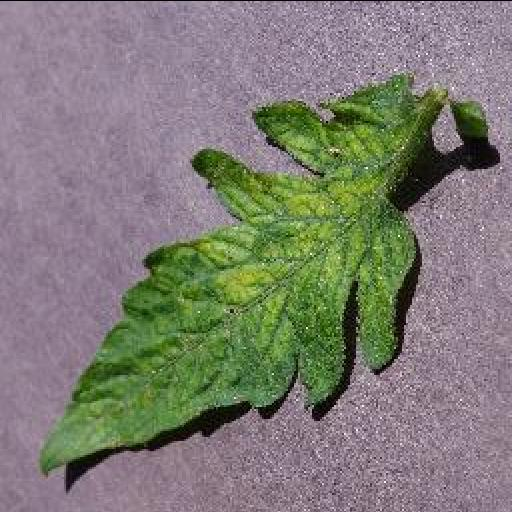Mosaic Virus: (36, 68, 442, 482)
